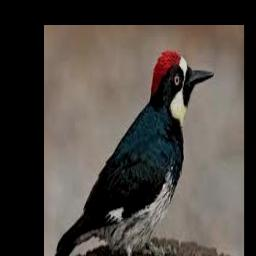Woodpecker: (46, 50, 215, 256)
